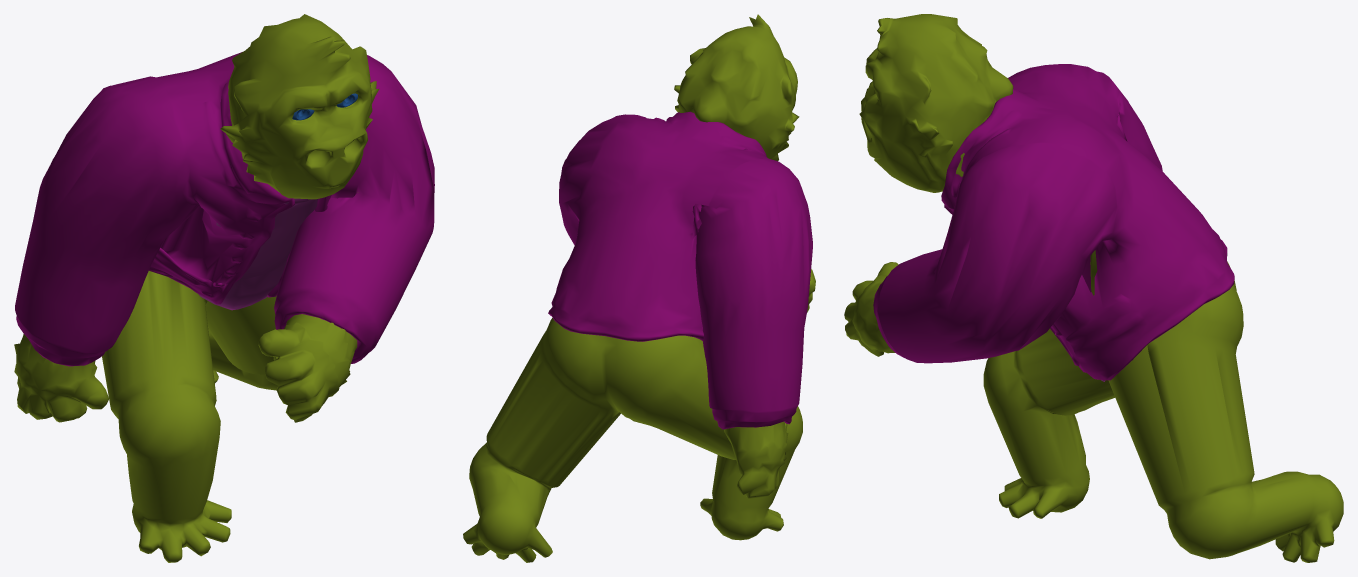
File: 006kong.obj
3 views of the same model, side by side, from view 1: azimuth 30°, elevation 25°; view 2: azimuth 150°, elevation 25°; view 3: azimuth 270°, elevation 25° (orthographic). The views are drawn at different scales.
Parts seen in each view (by area): view 1: Jacket, Body, Shirt; view 2: Jacket, Body; view 3: Jacket, Body.
Boxes of the visible parts, bbox=[...] form: Jacket: bbox=[15, 52, 434, 366]; Body: bbox=[14, 14, 379, 562]; Shirt: bbox=[198, 198, 317, 310]; Jacket: bbox=[548, 111, 812, 429]; Body: bbox=[463, 14, 815, 562]; Jacket: bbox=[873, 64, 1234, 380]; Body: bbox=[844, 14, 1343, 562].
Size of the model in its own units: 4.98 by 7.65 by 6.61.
